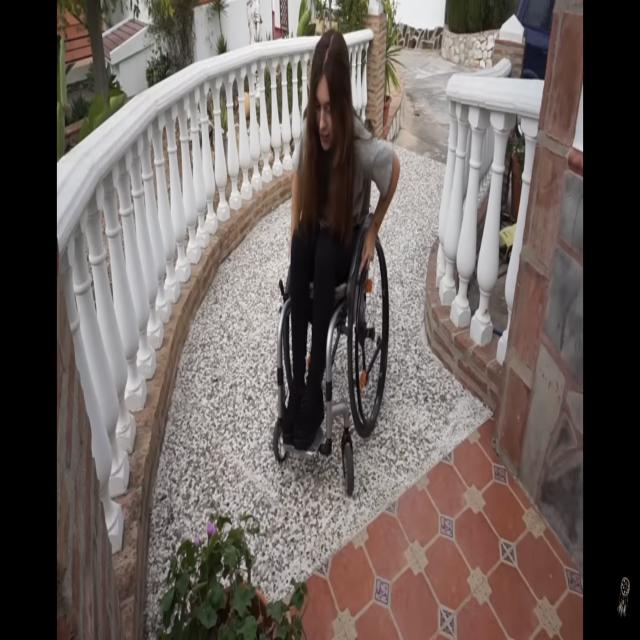wheelchairs: (270, 115, 392, 504)
